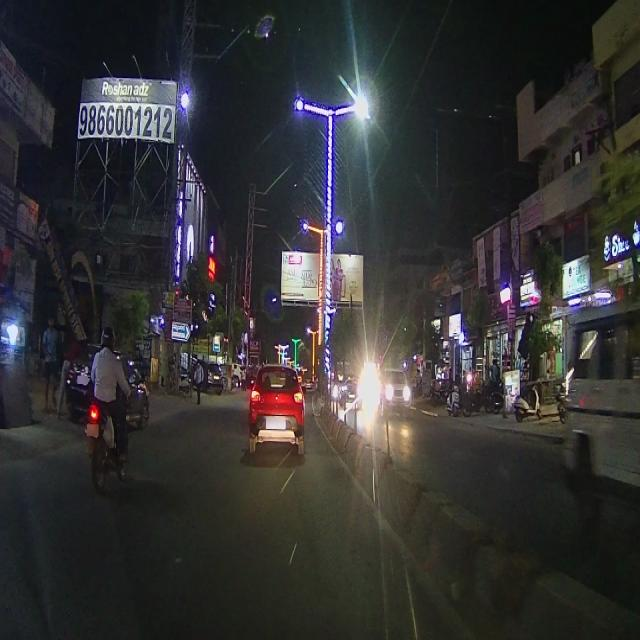car ahead at: (246, 365, 309, 460)
motorcycle ahead at: (79, 398, 135, 498)
